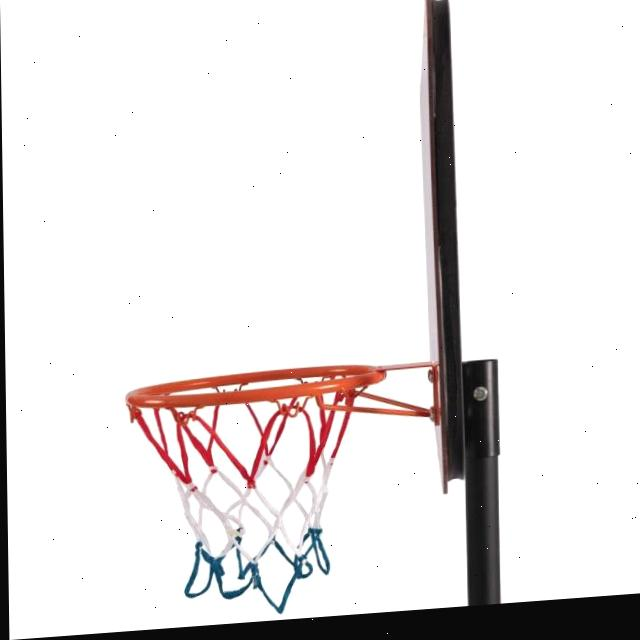hoop: (126, 360, 390, 625)
